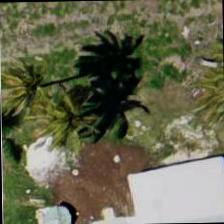Kelapa_Sawit: (0, 51, 86, 143)
